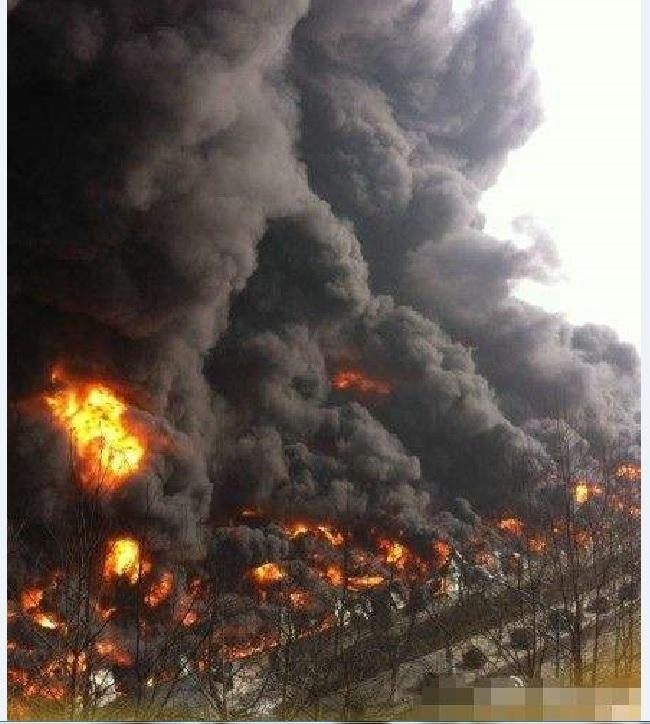fire: (44, 376, 146, 477), (102, 534, 144, 581)
